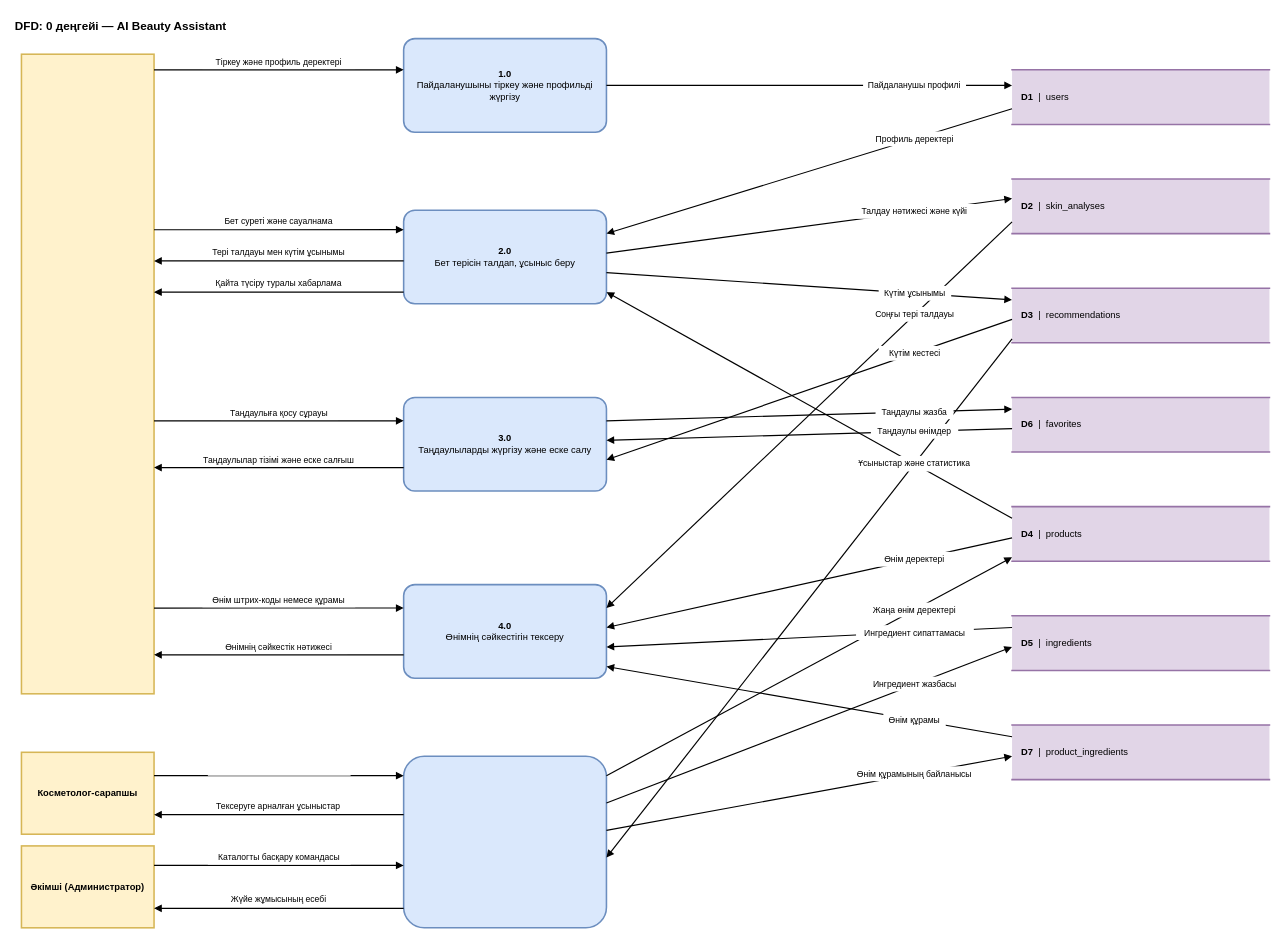
The diagram is 1283 pixels wide and 941 high, and some of its shapes have lost their labels. The centre of each missing label's shape, as x and y in pixels:
5.0 Өнім каталогы мен ұсыныс ережелерін жаңарту: point (504, 841)
Ингредиент сипаттамасы және алгоритм жаңартуы: point (278, 762)
Пайдаланушы (Клиент): point (87, 373)
